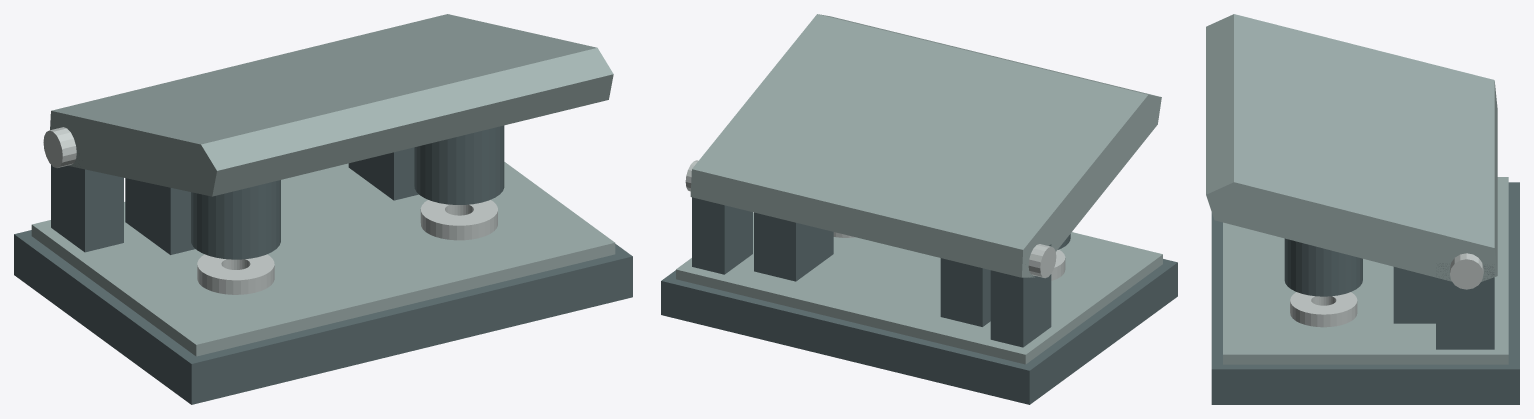
3 views of the same model, side by side, from view 1: azimuth 30°, elevation 25°; view 2: azimuth 150°, elevation 25°; view 3: azimuth 270°, elevation 25° (orthographic). The views are drawn at different scales.
Parts seen in each view (by area): view 1: WholeWideRaisedPalmLever, WholeTwinClearanceDieDeck, WholeShallowCollectingTray, WholeAnnularVerticalGuide_-0.04, WholeAnnularVerticalGuide_0.04, WholeRearPivotPedestal_-0.064, WholeRearGuideSupport_-0.04, WholeCircularDieRing_-0.04, WholeCircularDieRing_0.04, WholeRearGuideSupport_0.04, WholeTransverseRearPivot; view 2: WholeWideRaisedPalmLever, WholeTwinClearanceDieDeck, WholeShallowCollectingTray, WholeRearPivotPedestal_-0.064, WholeRearGuideSupport_0.04, WholeRearPivotPedestal_0.064, WholeRearGuideSupport_-0.04, WholeTransverseRearPivot; view 3: WholeWideRaisedPalmLever, WholeTwinClearanceDieDeck, WholeShallowCollectingTray, WholeRearPivotPedestal_0.064, WholeAnnularVerticalGuide_0.04, WholeRearGuideSupport_0.04, WholeCircularDieRing_0.04, WholeTransverseRearPivot.
Boxes of the visible parts, x1,y1,x2,y2 form: WholeWideRaisedPalmLever: (50, 14, 613, 196); WholeTwinClearanceDieDeck: (31, 162, 615, 356); WholeShallowCollectingTray: (14, 230, 632, 404); WholeAnnularVerticalGuide_-0.04: (191, 180, 280, 259); WholeAnnularVerticalGuide_0.04: (414, 125, 504, 204); WholeRearPivotPedestal_-0.064: (51, 165, 123, 252); WholeRearGuideSupport_-0.04: (125, 178, 194, 254); WholeCircularDieRing_-0.04: (197, 254, 274, 294); WholeCircularDieRing_0.04: (420, 200, 497, 240); WholeRearGuideSupport_0.04: (348, 147, 418, 200); WholeTransverseRearPivot: (43, 127, 76, 167); WholeWideRaisedPalmLever: (690, 14, 1161, 277); WholeTwinClearanceDieDeck: (676, 212, 1162, 364); WholeShallowCollectingTray: (661, 259, 1177, 404); WholeRearPivotPedestal_-0.064: (990, 244, 1051, 347); WholeRearGuideSupport_0.04: (754, 212, 833, 281); WholeRearPivotPedestal_0.064: (692, 197, 752, 274); WholeRearGuideSupport_-0.04: (940, 258, 990, 326); WholeTransverseRearPivot: (685, 160, 1056, 278); WholeWideRaisedPalmLever: (1206, 14, 1497, 281); WholeTwinClearanceDieDeck: (1223, 177, 1508, 364); WholeShallowCollectingTray: (1211, 182, 1519, 404); WholeRearPivotPedestal_0.064: (1436, 263, 1494, 349); WholeAnnularVerticalGuide_0.04: (1284, 238, 1362, 296); WholeRearGuideSupport_0.04: (1393, 267, 1435, 323); WholeCircularDieRing_0.04: (1290, 292, 1357, 327); WholeTransverseRearPivot: (1450, 253, 1483, 289).
Size of the model in its own units: 0.158 by 0.084 by 0.112.
